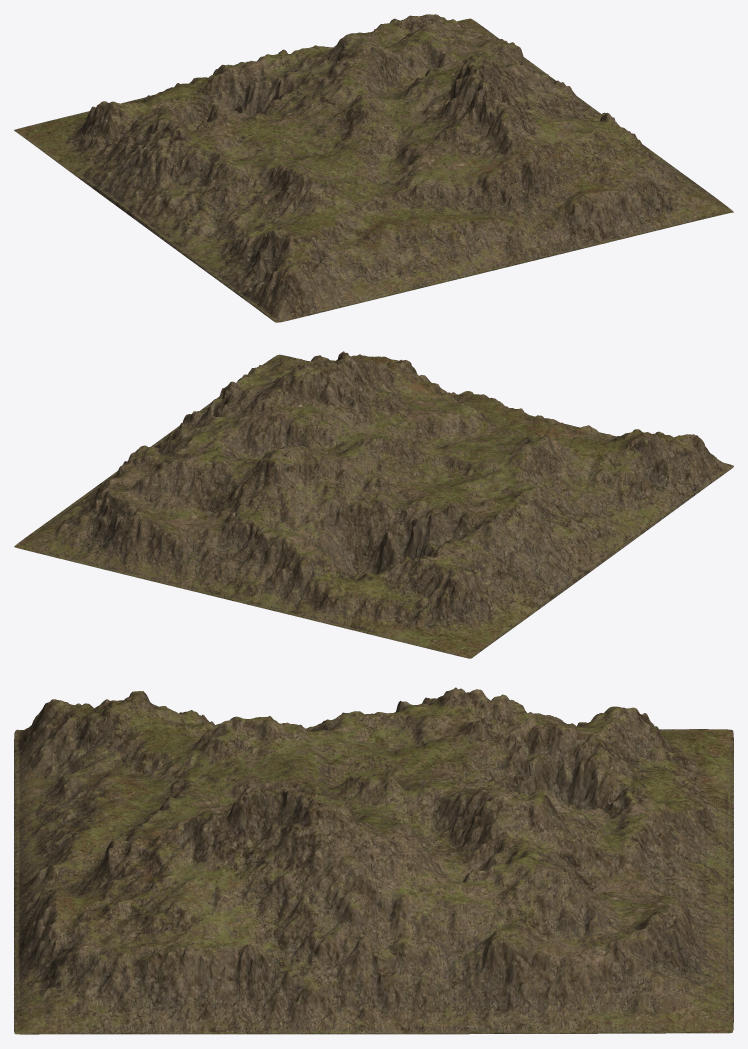
File: rocks.glb
3 views of the same model, one above another, from view 1: azimuth 30°, elevation 25°; view 2: azimuth 150°, elevation 25°; view 3: azimuth 270°, elevation 25° (orthographic). The views are drawn at different scales.
Visible parts, largest first — view 1: Mesh_bake_0; view 2: Mesh_bake_0; view 3: Mesh_bake_0.
Part boxes in pixels (<box>): Mesh_bake_0: <box>14,14,733,322</box>; Mesh_bake_0: <box>14,351,733,658</box>; Mesh_bake_0: <box>14,687,733,1034</box>.
Bounding box in the file's own units: 11.49 × 2.74 × 11.49.
1 material, 1 textured.
